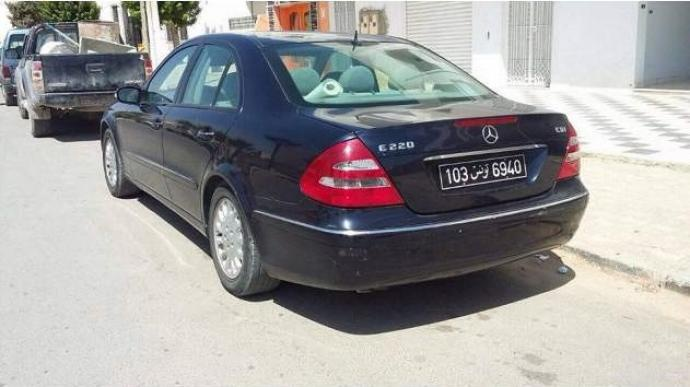LP: (432, 154, 545, 193)
